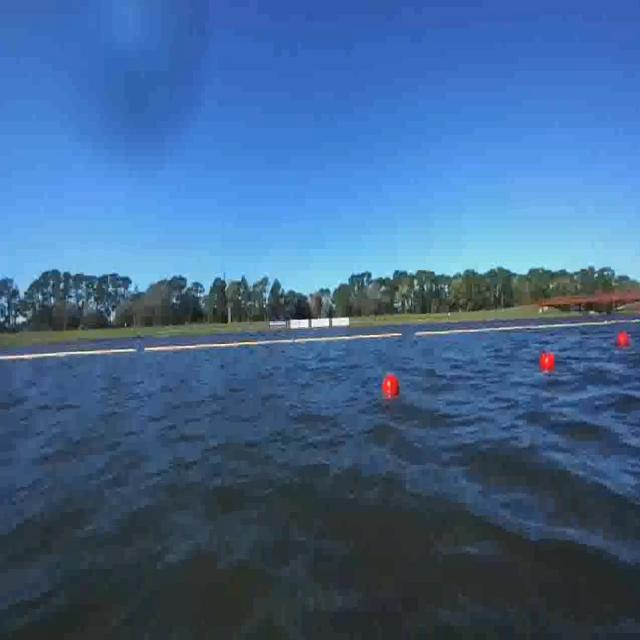red-buoy: (381, 372, 397, 397), (542, 352, 557, 373), (618, 333, 631, 351)
